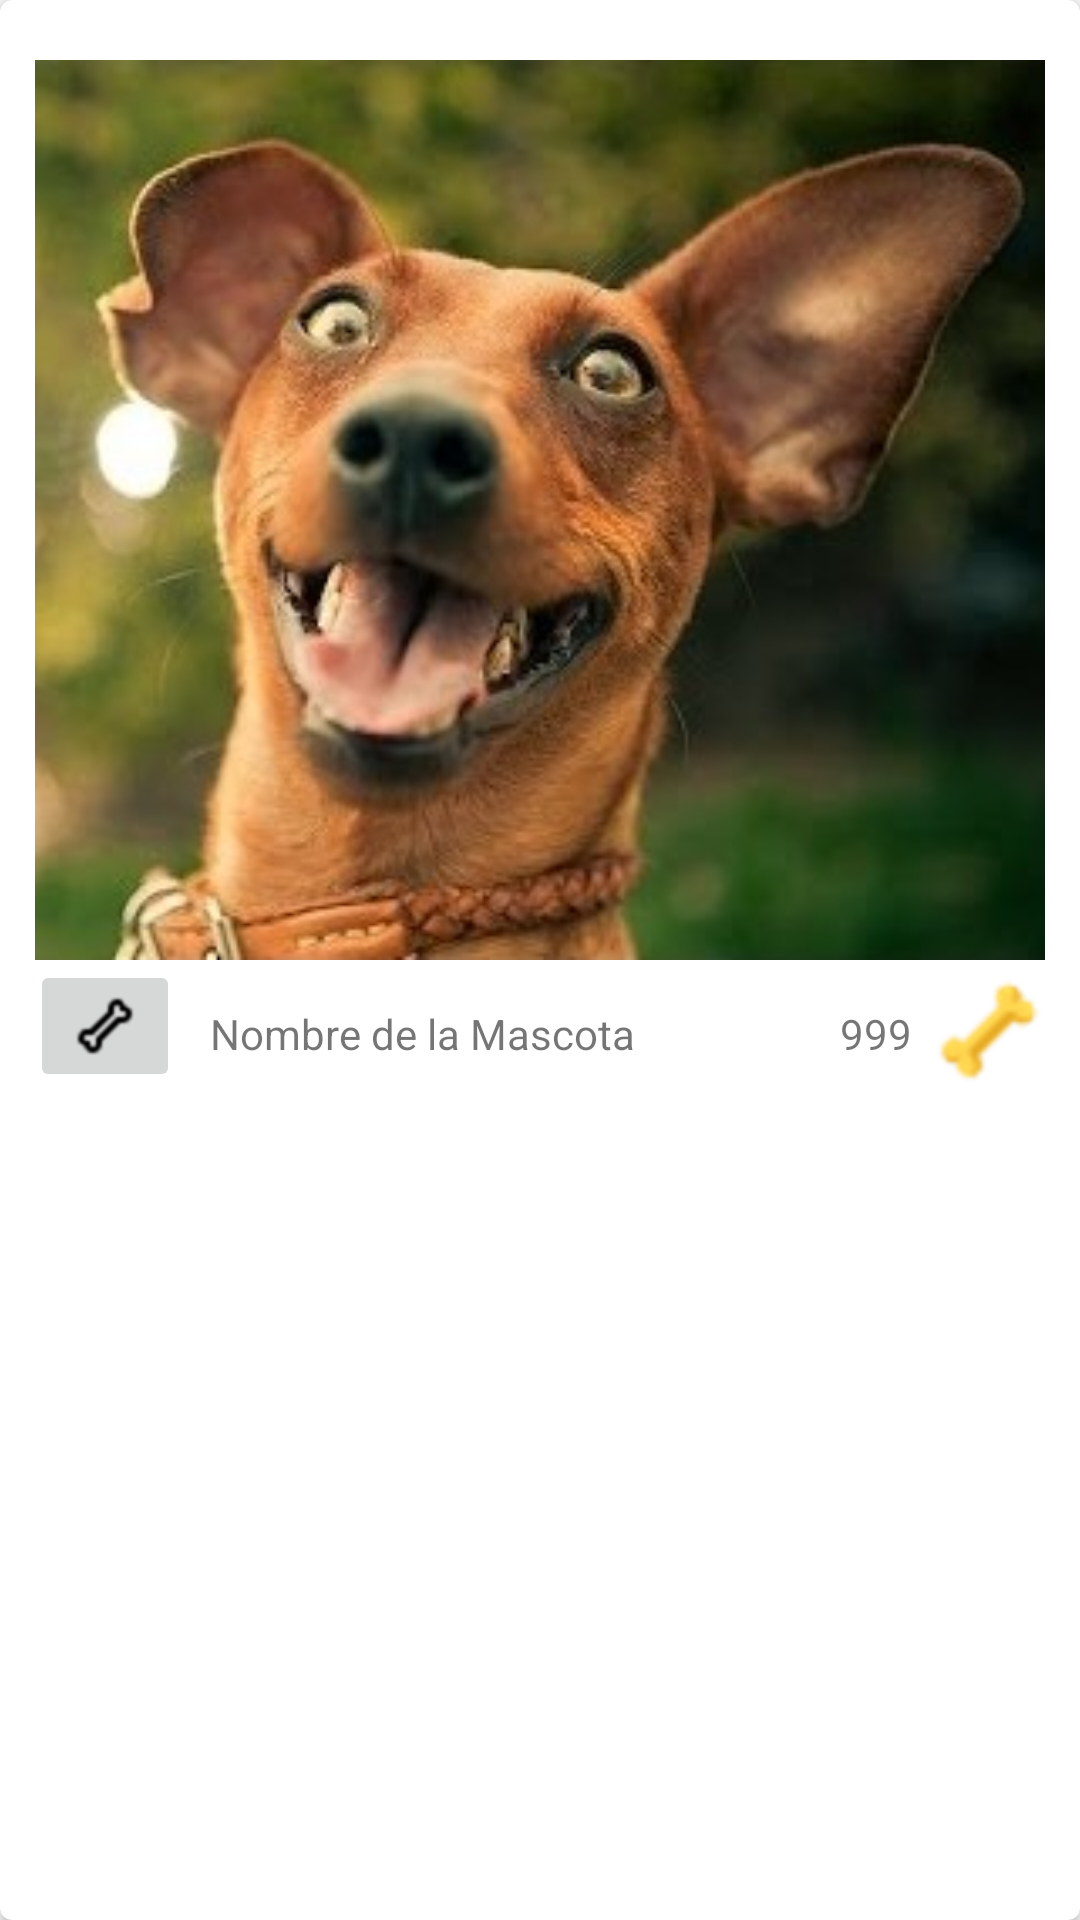

Named icons in this screenshot (1080×1920) and their centers, [x,y]:
dog bone: [105,1026], [988,1030]
